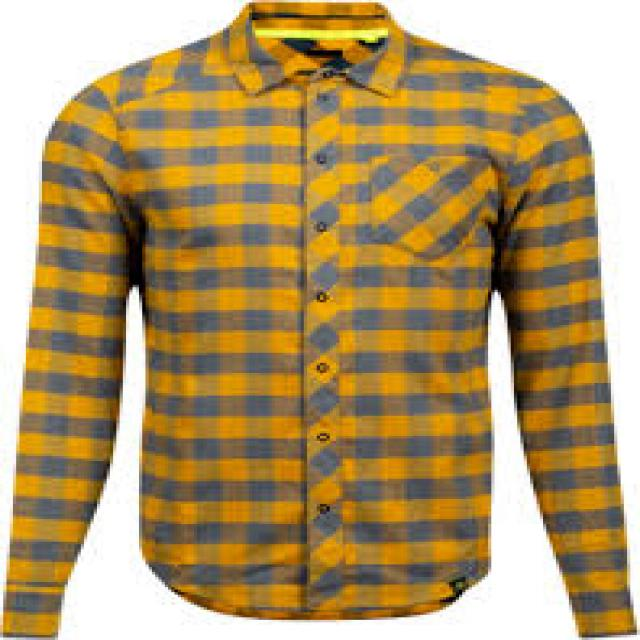plaid: (12, 6, 635, 640)
